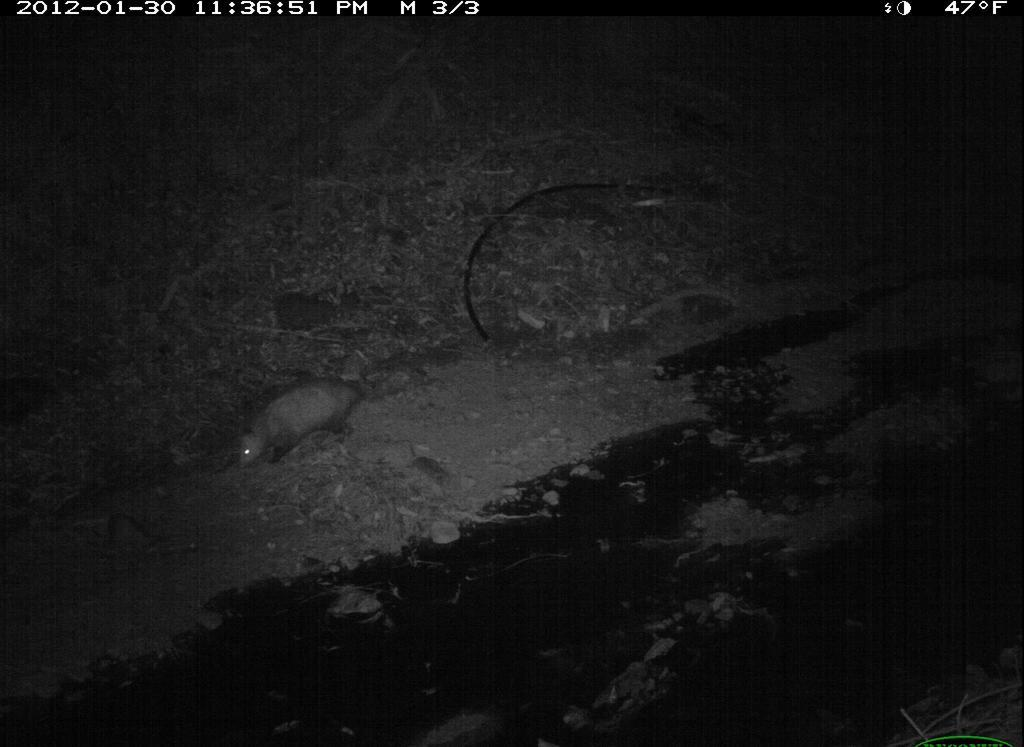opossum: (227, 370, 377, 483)
